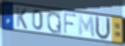0: (31, 9, 45, 32)
F: (63, 12, 78, 36)
K: (16, 7, 28, 31)
M: (78, 14, 96, 39)
Q: (46, 10, 63, 36)
U: (95, 15, 112, 41)
